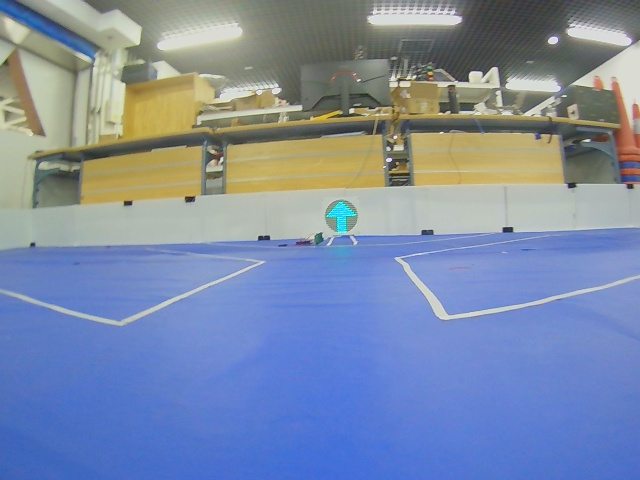straight_green: (325, 200, 357, 233)
